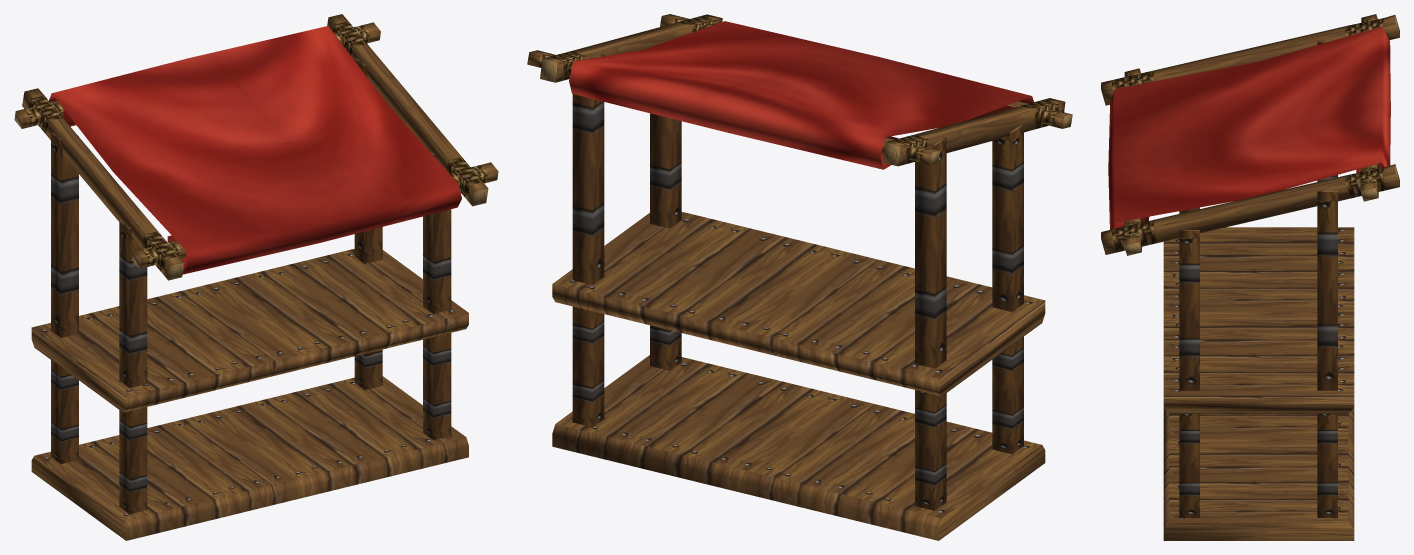
File: MarketPlace03B.fbx
The picture shows the model from 3 angles, left to right: view 1: azimuth 30°, elevation 25°; view 2: azimuth 150°, elevation 25°; view 3: azimuth 270°, elevation 25°; orthographic projection. The views are drawn at different scales.
Parts seen in each view (by area): view 1: MarketPlace03B; view 2: MarketPlace03B; view 3: MarketPlace03B.
Part boxes in pixels (<box>): MarketPlace03B: <box>14,14,498,540</box>; MarketPlace03B: <box>527,14,1072,540</box>; MarketPlace03B: <box>1101,14,1399,540</box>.
Size of the model in its own units: 5.97 by 5.77 by 4.29.
